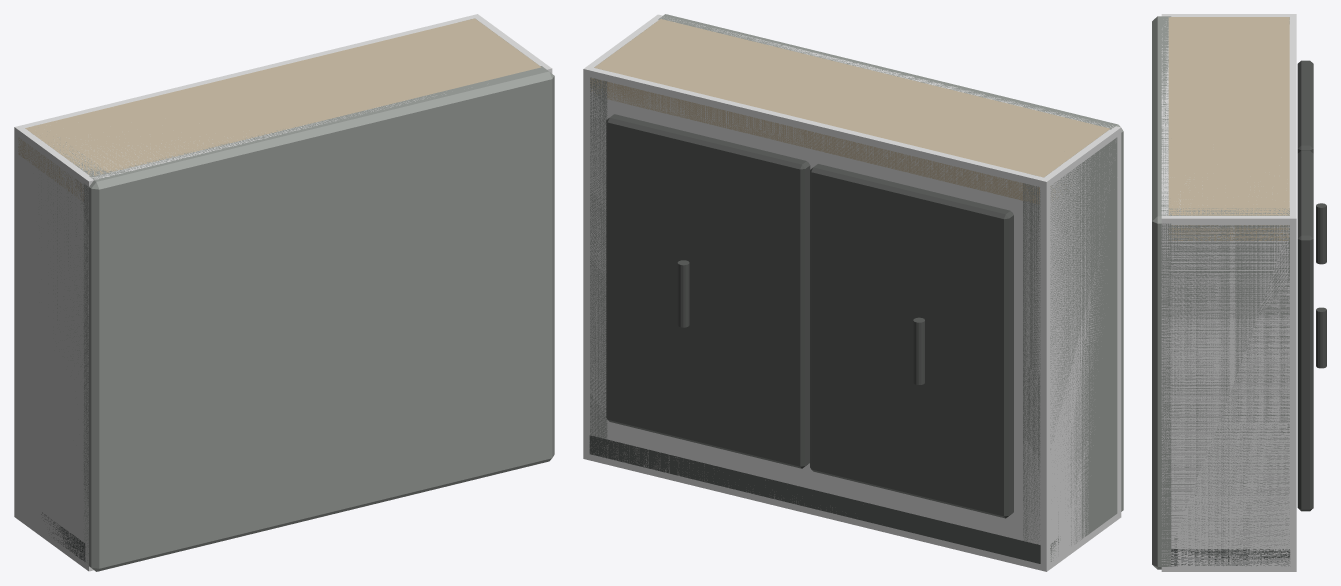
File: basic.glb
The picture shows the model from 3 angles, left to right: view 1: azimuth 30°, elevation 25°; view 2: azimuth 150°, elevation 25°; view 3: azimuth 270°, elevation 25°; orthographic projection. The views are drawn at different scales.
Visible parts, largest first — view 1: Cabinet_Back, COL_WALL_CABINETS_BASIC, Cabinet_Top; view 2: COL_WALL_CABINETS_BASIC, Cabinet_Door_1, Cabinet_Door_-1, Cabinet_Top, Cabinet_Side, Cabinet_Bottom, Cabinet_Side.001, Cabinet_Back, Cabinet_Handle_1, Cabinet_Handle_-1; view 3: COL_WALL_CABINETS_BASIC, Cabinet_Side.001, Cabinet_Top, Cabinet_Back, Cabinet_Door_1, Cabinet_Bottom, Cabinet_Door_-1, Cabinet_Handle_-1, Cabinet_Handle_1.
Part boxes in pixels (bbox=[...]): Cabinet_Back: bbox=[83, 66, 554, 571]; COL_WALL_CABINETS_BASIC: bbox=[14, 14, 552, 571]; Cabinet_Top: bbox=[18, 18, 541, 201]; COL_WALL_CABINETS_BASIC: bbox=[583, 14, 1121, 571]; Cabinet_Door_1: bbox=[606, 114, 810, 468]; Cabinet_Door_-1: bbox=[810, 164, 1013, 518]; Cabinet_Top: bbox=[590, 19, 1109, 204]; Cabinet_Side: bbox=[1023, 125, 1117, 554]; Cabinet_Bottom: bbox=[589, 435, 1058, 563]; Cabinet_Side.001: bbox=[590, 23, 654, 456]; Cabinet_Back: bbox=[658, 14, 1123, 511]; Cabinet_Handle_1: bbox=[677, 260, 689, 327]; Cabinet_Handle_-1: bbox=[913, 317, 924, 384]; COL_WALL_CABINETS_BASIC: bbox=[1161, 14, 1296, 571]; Cabinet_Side.001: bbox=[1168, 208, 1289, 565]; Cabinet_Top: bbox=[1168, 17, 1289, 240]; Cabinet_Back: bbox=[1152, 16, 1171, 569]; Cabinet_Door_1: bbox=[1297, 150, 1313, 511]; Cabinet_Bottom: bbox=[1171, 549, 1290, 566]; Cabinet_Door_-1: bbox=[1297, 60, 1313, 153]; Cabinet_Handle_-1: bbox=[1316, 203, 1326, 264]; Cabinet_Handle_1: bbox=[1316, 307, 1326, 368].
Bounding box in the file's own units: 1.08 × 0.8648 × 0.3877.
